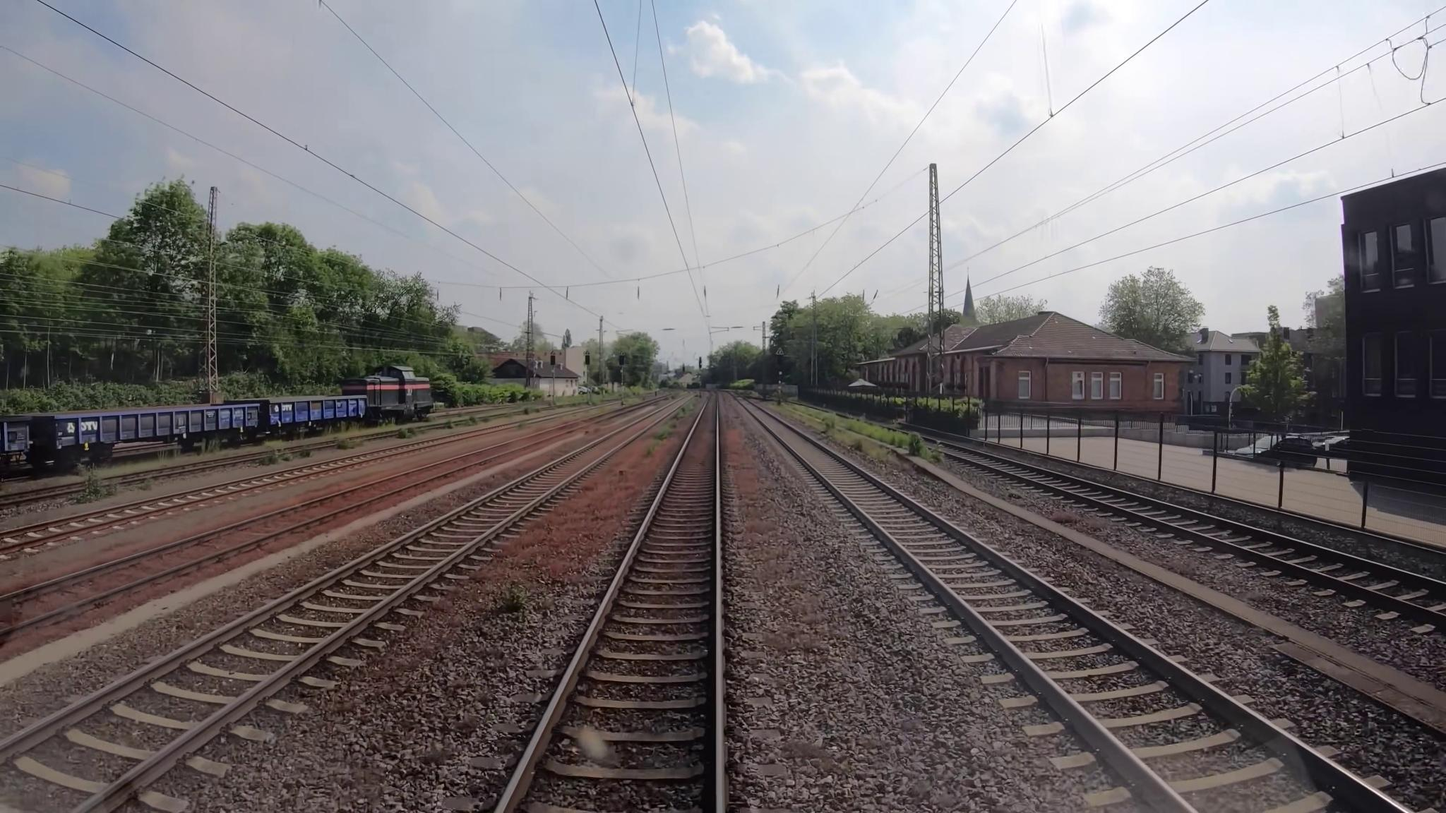Plant: (779, 404, 950, 469), (63, 470, 157, 510), (639, 397, 693, 460), (254, 442, 313, 467), (493, 580, 534, 610), (331, 440, 362, 452), (395, 426, 420, 439)
